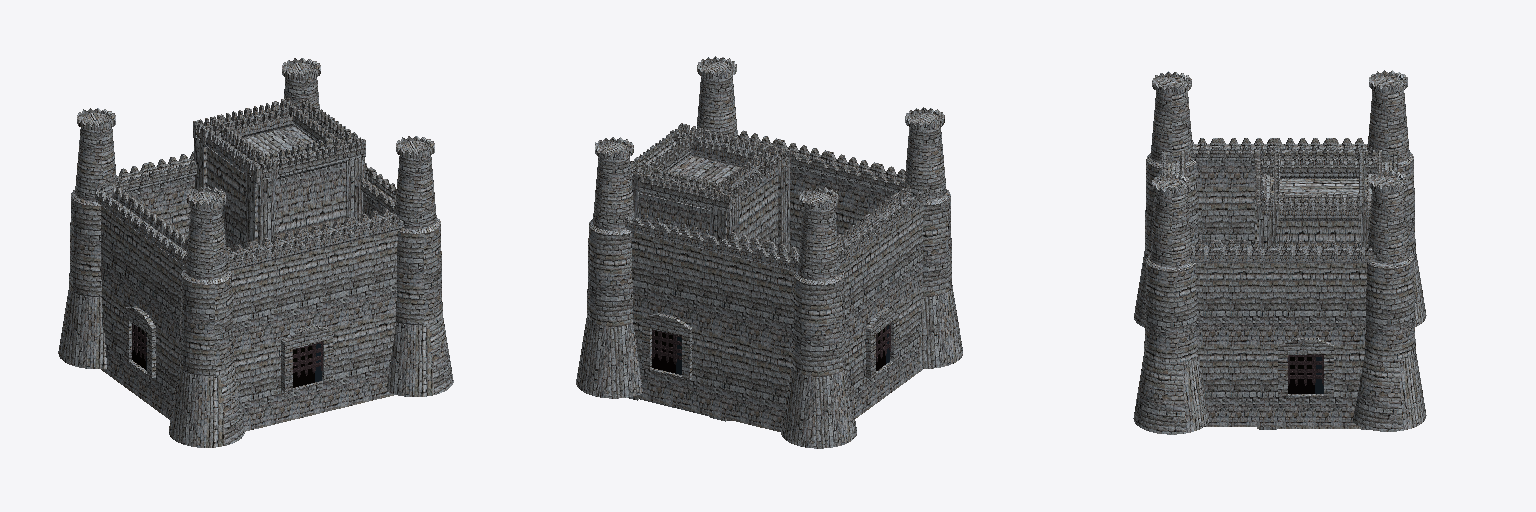
3 renders of one model, left to right at view 1: azimuth 30°, elevation 25°; view 2: azimuth 150°, elevation 25°; view 3: azimuth 270°, elevation 25°, orthographic.
Parts seen in each view (by area): view 1: Cube.003_Cube.006, Plane.003_Plane.004, Cube.002_Cube.005, Plane.002_Plane.003, Plane.000_Plane.002, Cube.004_Cube.007, Cube.006_Cube.009, Cube.005_Cube.008, Cube.001_Cube.004, Cube.007_Cube.010, Cube.013_Cube.016, Plane.001 (+3 smaller); view 2: Cube.001_Cube.004, Plane.000_Plane.002, Cube.002_Cube.005, Plane.001, Plane.003_Plane.004, Cube.006_Cube.009, Cube.003_Cube.006, Cube.005_Cube.008, Cube.004_Cube.007, Plane.002_Plane.003, Cube.012_Cube.015, Cube.013_Cube.016 (+2 smaller); view 3: Cube, Plane.002_Plane.003, Plane.001, Cube.002_Cube.005, Plane.003_Plane.004, Cube.006_Cube.009, Plane.000_Plane.002, Cube.005_Cube.008, Cube.009_Cube.012, Cube.004_Cube.007, Plane_Plane.005, Cube.010_Cube.013.
Part boxes in pixels (left/top/right/bottom): Cube.003_Cube.006: left=226, top=207, right=403, bottom=431; Plane.003_Plane.004: left=169, top=186, right=244, bottom=447; Cube.002_Cube.005: left=95, top=184, right=187, bottom=419; Plane.002_Plane.003: left=386, top=136, right=453, bottom=396; Plane.000_Plane.002: left=58, top=108, right=116, bottom=368; Cube.004_Cube.007: left=245, top=132, right=365, bottom=243; Cube.006_Cube.009: left=193, top=98, right=363, bottom=220; Cube.005_Cube.008: left=195, top=116, right=277, bottom=251; Cube.001_Cube.004: left=117, top=151, right=196, bottom=238; Cube.007_Cube.010: left=281, top=325, right=332, bottom=392; Cube.013_Cube.016: left=124, top=306, right=155, bottom=378; Plane.001: left=282, top=58, right=320, bottom=109; Cube.001_Cube.004: left=625, top=213, right=798, bottom=431; Plane.000_Plane.002: left=781, top=187, right=856, bottom=448; Cube.002_Cube.005: left=838, top=184, right=929, bottom=418; Plane.001: left=576, top=137, right=642, bottom=398; Plane.003_Plane.004: left=905, top=107, right=962, bottom=368; Cube.006_Cube.009: left=628, top=124, right=740, bottom=420; Cube.003_Cube.006: left=724, top=130, right=904, bottom=252; Cube.005_Cube.008: left=708, top=145, right=790, bottom=421; Cube.004_Cube.007: left=670, top=123, right=790, bottom=250; Plane.002_Plane.003: left=696, top=56, right=737, bottom=139; Cube.012_Cube.015: left=642, top=313, right=691, bottom=379; Cube.013_Cube.016: left=866, top=307, right=898, bottom=379; Cube: left=1189, top=240, right=1375, bottom=426; Plane.002_Plane.003: left=1133, top=173, right=1208, bottom=434; Plane.001: left=1353, top=170, right=1426, bottom=431; Cube.002_Cube.005: left=1190, top=138, right=1371, bottom=244; Plane.003_Plane.004: left=1134, top=71, right=1197, bottom=327; Cube.006_Cube.009: left=1257, top=150, right=1381, bottom=429; Plane.000_Plane.002: left=1367, top=70, right=1426, bottom=326; Cube.005_Cube.008: left=1255, top=150, right=1381, bottom=239; Cube.009_Cube.012: left=1278, top=338, right=1333, bottom=396; Cube.004_Cube.007: left=1256, top=150, right=1279, bottom=429; Plane_Plane.005: left=1280, top=179, right=1358, bottom=200; Cube.010_Cube.013: left=1288, top=355, right=1323, bottom=385.
Size of the model in its own units: 0.9914 by 0.8642 by 0.9094.
Materials: 3 (2 with a texture image).